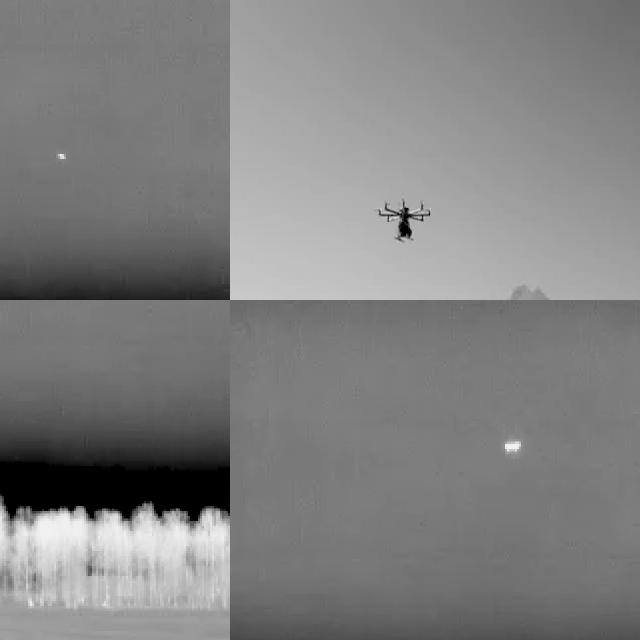1: (493, 435, 529, 465), (45, 146, 71, 172)
drone: (376, 194, 437, 248)
